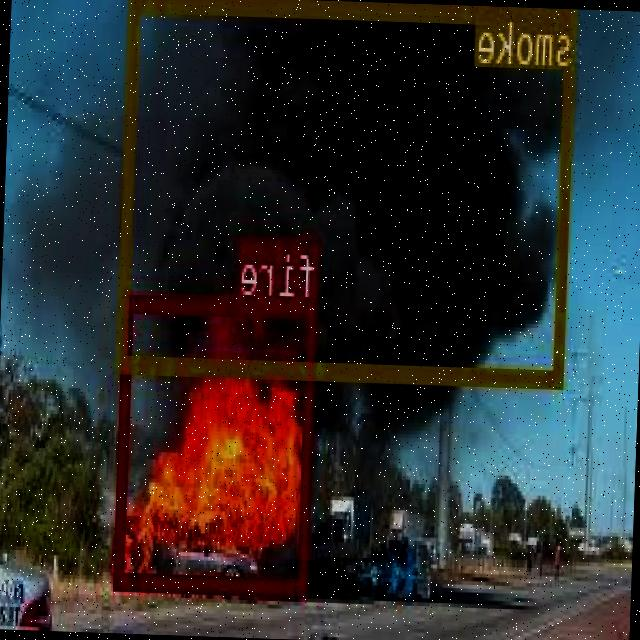fire: (115, 292, 319, 593)
smoke: (117, 0, 578, 385)
